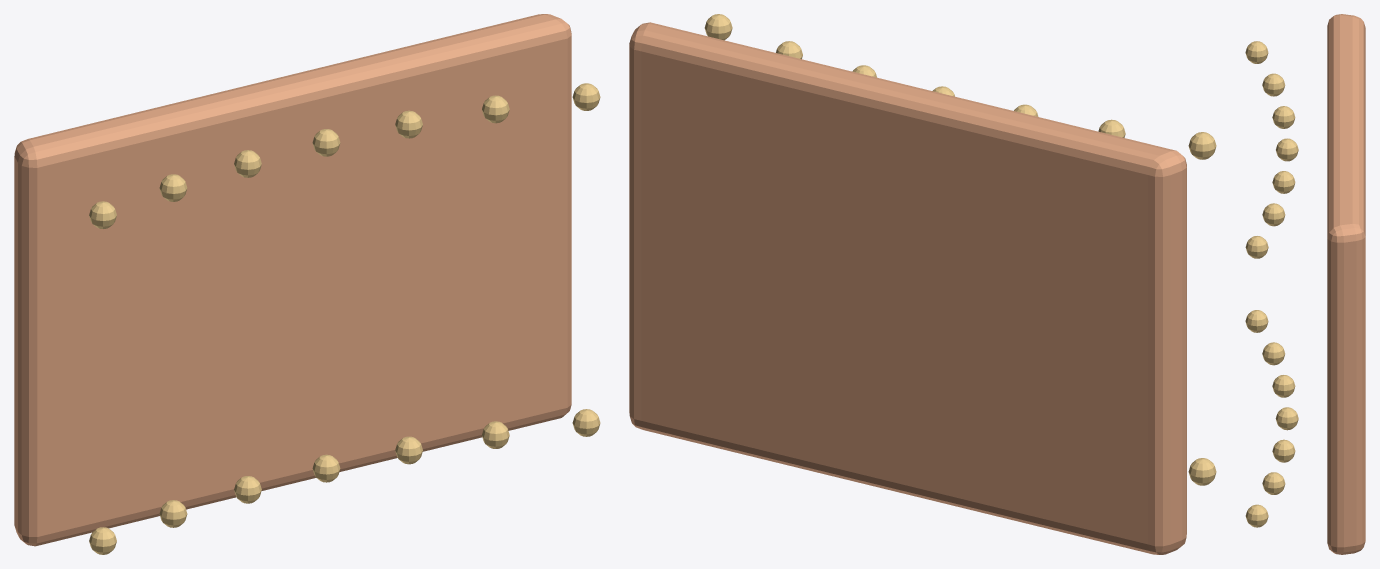
Rendered from armour_plate.glb.
The picture shows the model from 3 angles, left to right: view 1: azimuth 30°, elevation 25°; view 2: azimuth 150°, elevation 25°; view 3: azimuth 270°, elevation 25°; orthographic projection. The views are drawn at different scales.
Parts seen in each view (by area): view 1: armour_plate; view 2: armour_plate; view 3: armour_plate.
Part boxes in pixels (left/top/right/bottom): armour_plate: left=14, top=14, right=600, bottom=554; armour_plate: left=629, top=14, right=1216, bottom=554; armour_plate: left=1245, top=14, right=1365, bottom=554.
Size of the model in its own units: 1.59 by 1.1 by 0.3644.
